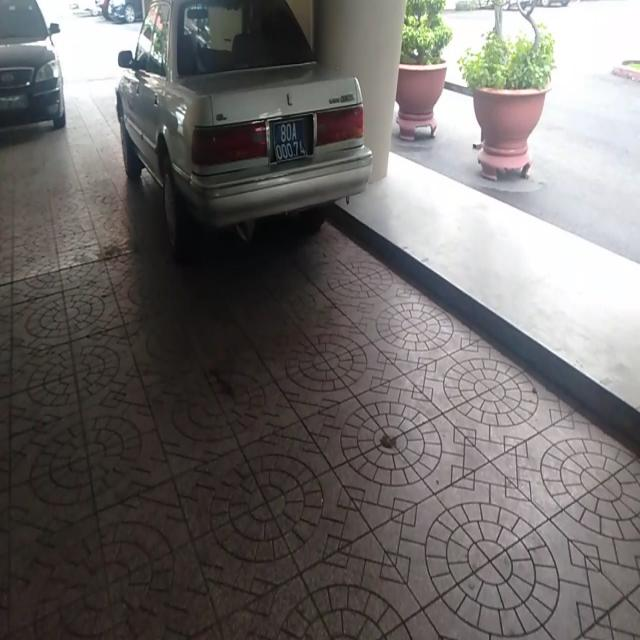bien_xanh: (270, 118, 308, 163)
